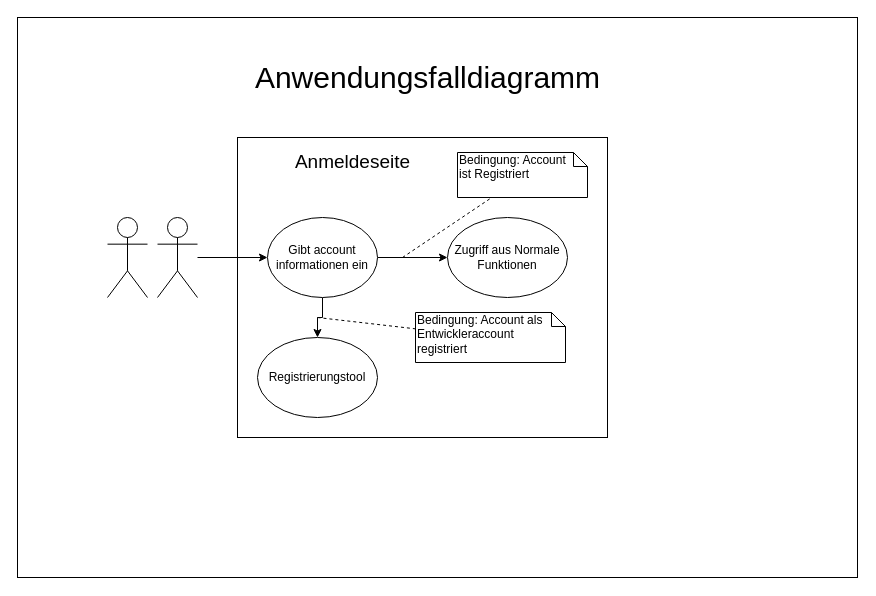
This 876x596 diagram has some shape labels left out. Each missing label, with the box of its shape:
Admin: (156, 216, 198, 298)
User: (106, 216, 148, 298)
